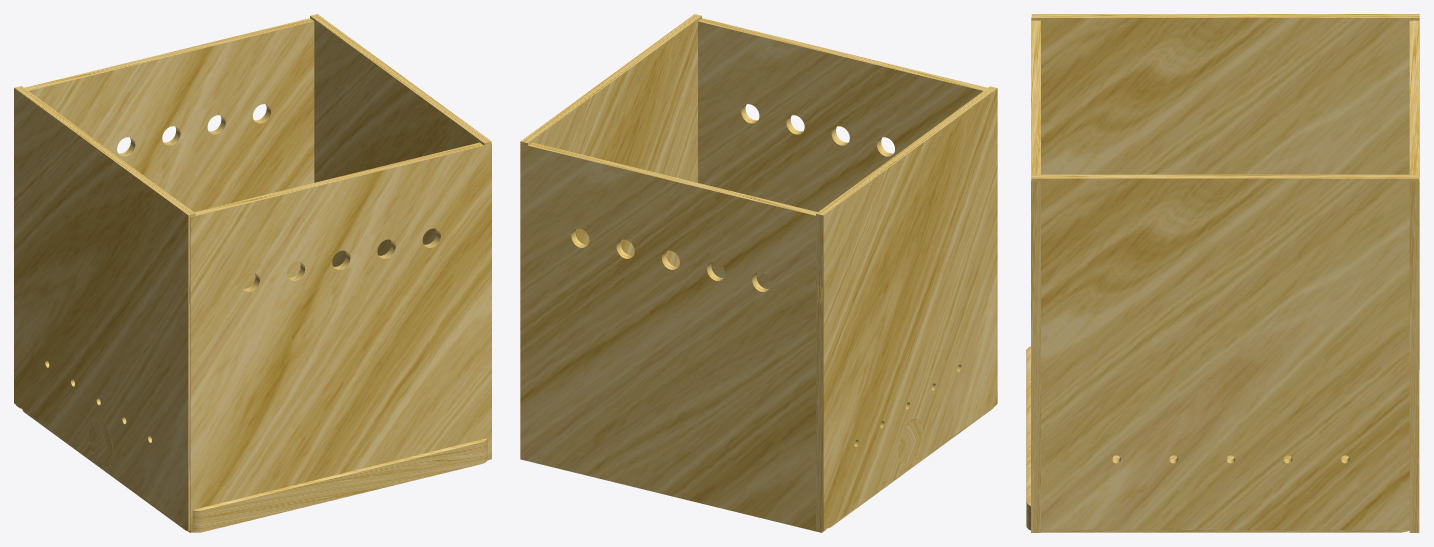
The picture shows the model from 3 angles, left to right: view 1: azimuth 30°, elevation 25°; view 2: azimuth 150°, elevation 25°; view 3: azimuth 270°, elevation 25°; orthographic projection. The views are drawn at different scales.
Parts seen in each view (by area): view 1: 003_Cube.001, 001_Cube.001, 004_Cube.001, 002_Cube.001, 000_Box_2.001; view 2: 004_Cube.001, 001_Cube.001, 003_Cube.001, 002_Cube.001; view 3: 002_Cube.001, 001_Cube.001, 004_Cube.001, 003_Cube.001, 000_Box_2.001.
Boxes of the visible parts, x1,y1,x2,y2 form: 003_Cube.001: (188,142,491,532); 001_Cube.001: (14,86,195,530); 004_Cube.001: (16,18,314,408); 002_Cube.001: (310,14,491,266); 000_Box_2.001: (22,410,487,532); 004_Cube.001: (520,142,826,532); 001_Cube.001: (816,86,997,530); 003_Cube.001: (698,18,995,406); 002_Cube.001: (520,14,701,266); 002_Cube.001: (1031,174,1418,530); 001_Cube.001: (1031,14,1419,369); 004_Cube.001: (1409,20,1419,532); 003_Cube.001: (1031,17,1040,532); 000_Box_2.001: (1026,346,1409,532).
Bounding box in the file's own units: 0.4023 × 0.4042 × 0.4056.
Materials: 4 (4 with a texture image).
